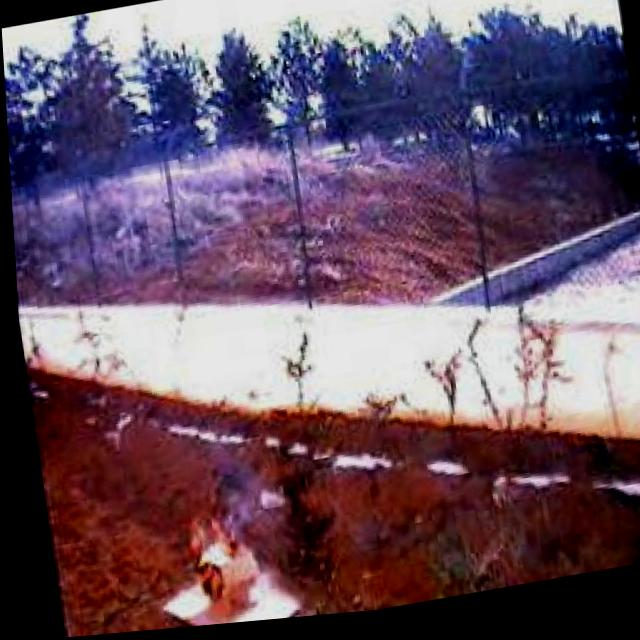helmet: (167, 470, 265, 630)
